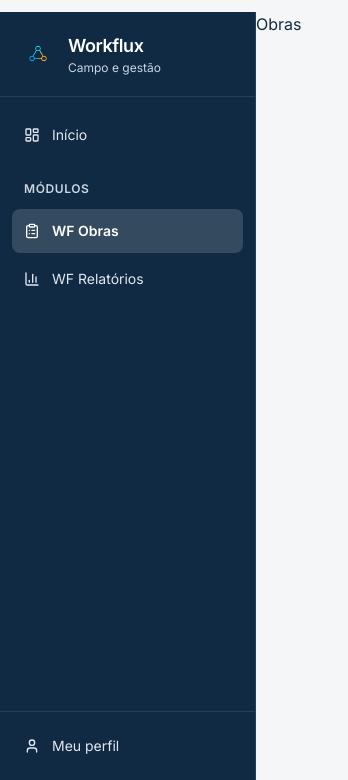
desktop module transition › keeps one sidebar while switching from Obras to Relatórios
This screenshot has width=348, height=780.
What coordinates should you click on to do the following:
click the link "WF Relatórios"
I would click on:
 (84, 279)
Its box is [24,270,144,287].
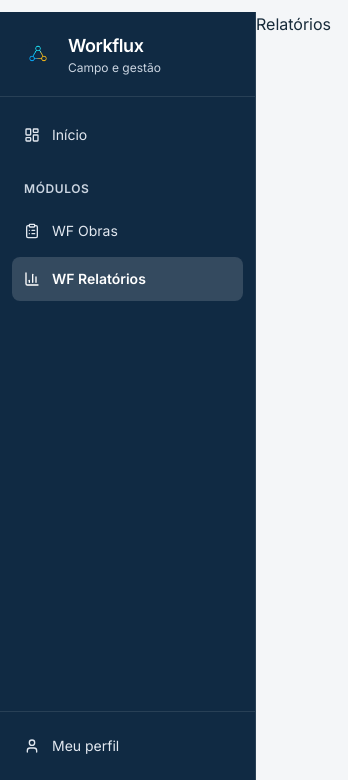
Now the heading "Relatórios" is shown, box [256,14,331,34]
